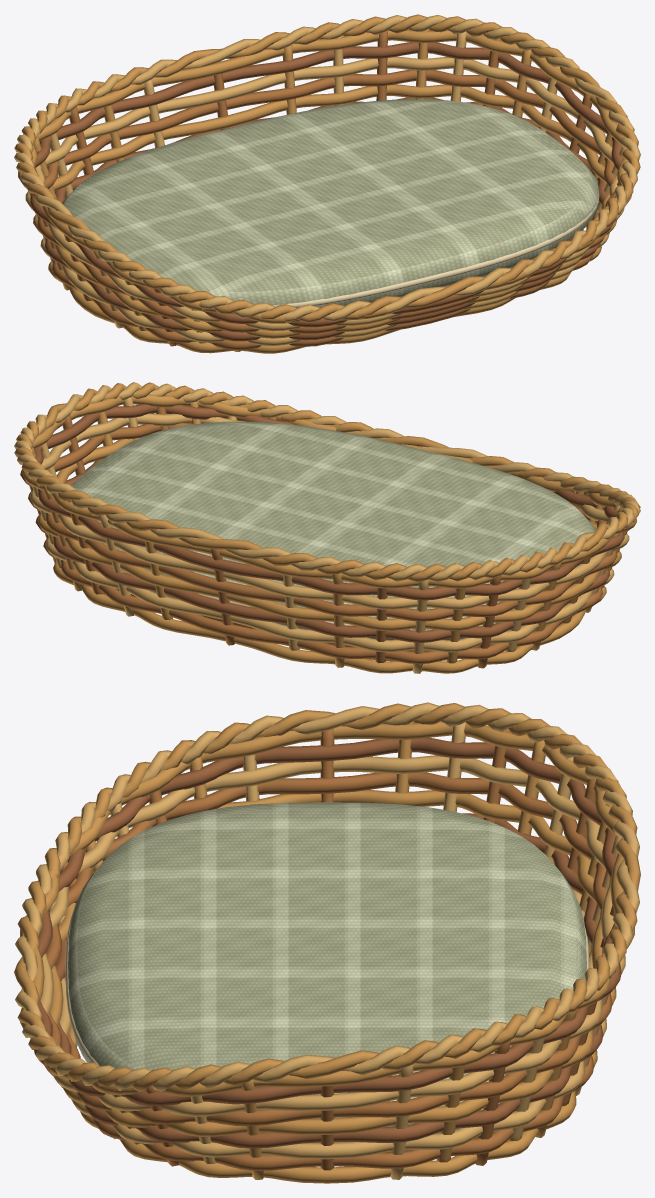
File: bed-willow.glb
3 views of the same model, one above another, from view 1: azimuth 30°, elevation 25°; view 2: azimuth 150°, elevation 25°; view 3: azimuth 270°, elevation 25° (orthographic). The views are drawn at different scales.
Visible parts, largest first — view 1: Window seat - willow; view 2: Window seat - willow; view 3: Window seat - willow.
Part boxes in pixels (left/top/right/bottom): Window seat - willow: left=14, top=14, right=640, bottom=353; Window seat - willow: left=14, top=382, right=640, bottom=673; Window seat - willow: left=14, top=702, right=640, bottom=1183.
Bounding box in the file's own units: 0.8102 × 0.1755 × 0.6042.
Materials: 6 (1 with a texture image).
